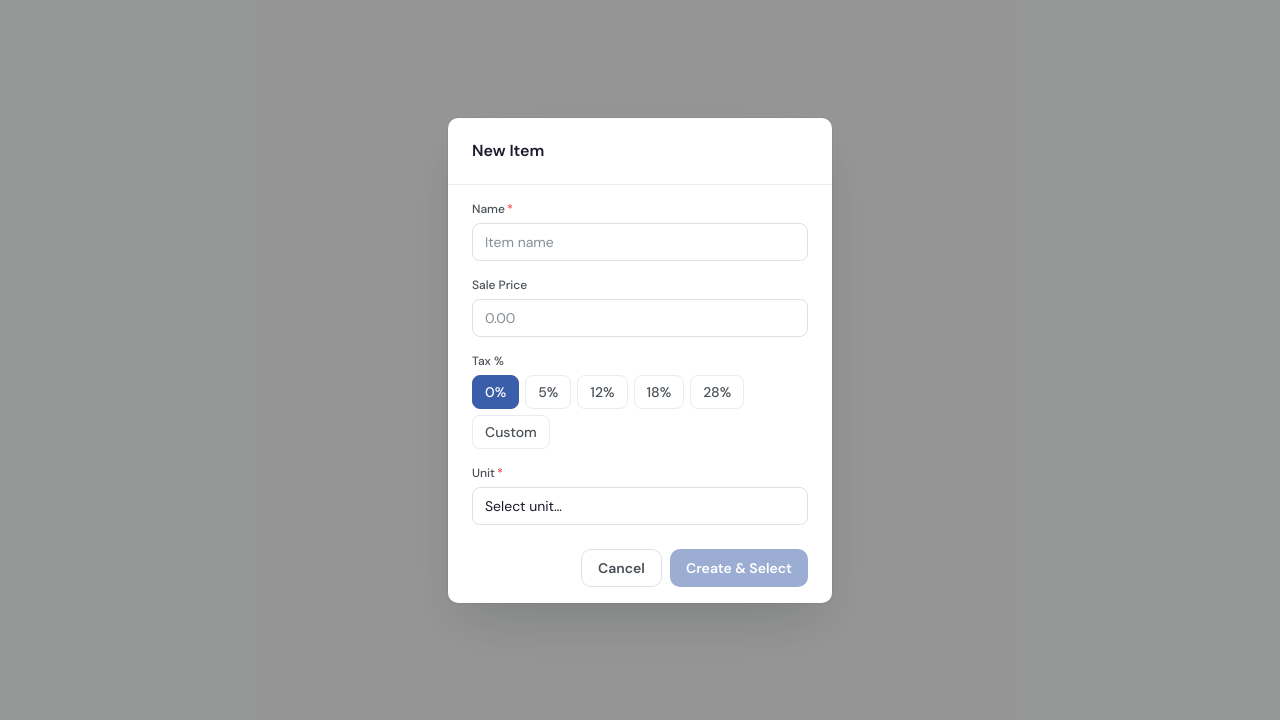
Scenario: QuickItemCreate › "Create & Select" button is enabled when both name and unit are filled
The image size is (1280, 720).
Type "Test Item" into the field with placeholder "Item name" at (640, 242), box [472,222,808,260]
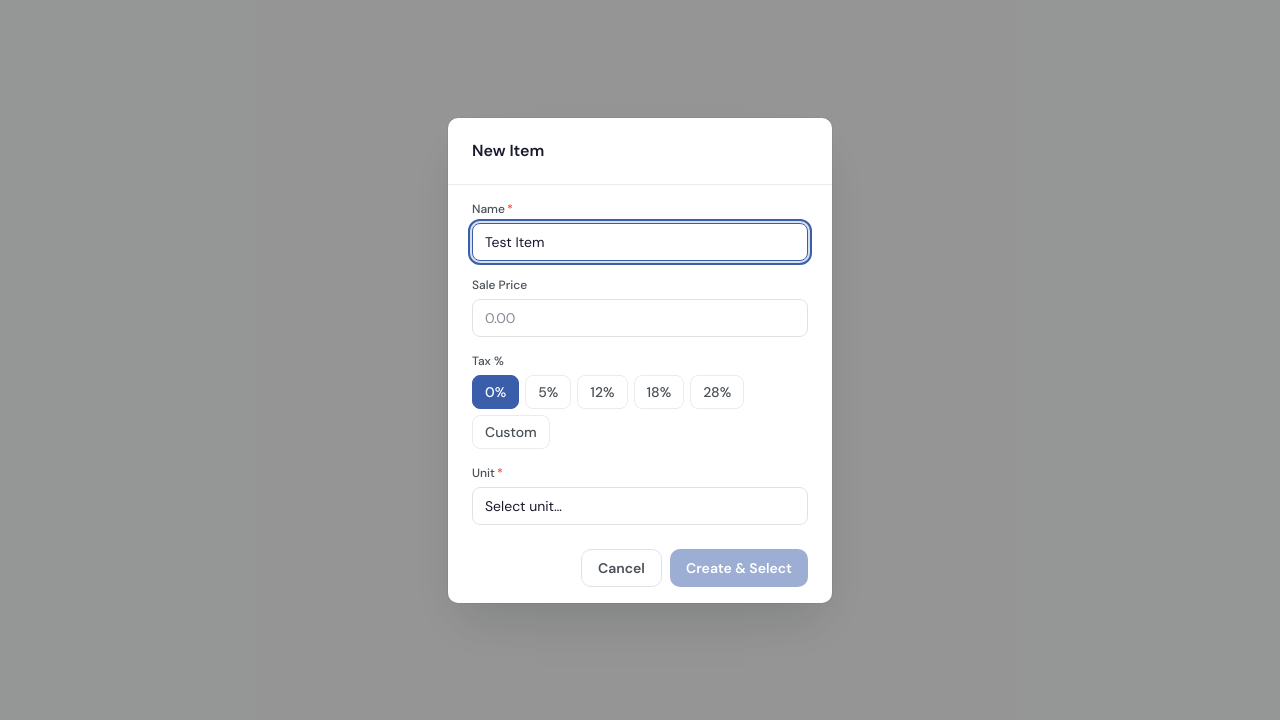
# Pick a unit from the custom dropdown
Click the dropdown labelled "Select unit…" at (524, 506), box [472,486,808,524]
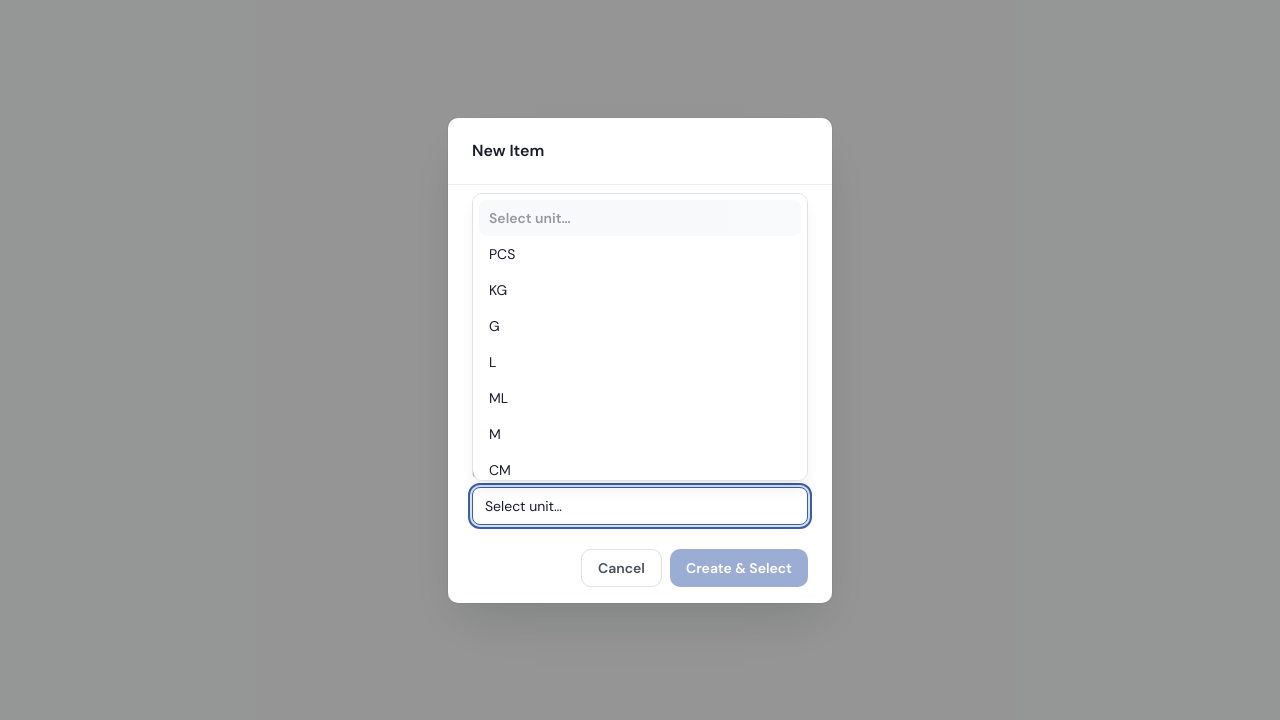
Click the option "PCS" at (502, 254), box [489,244,515,262]
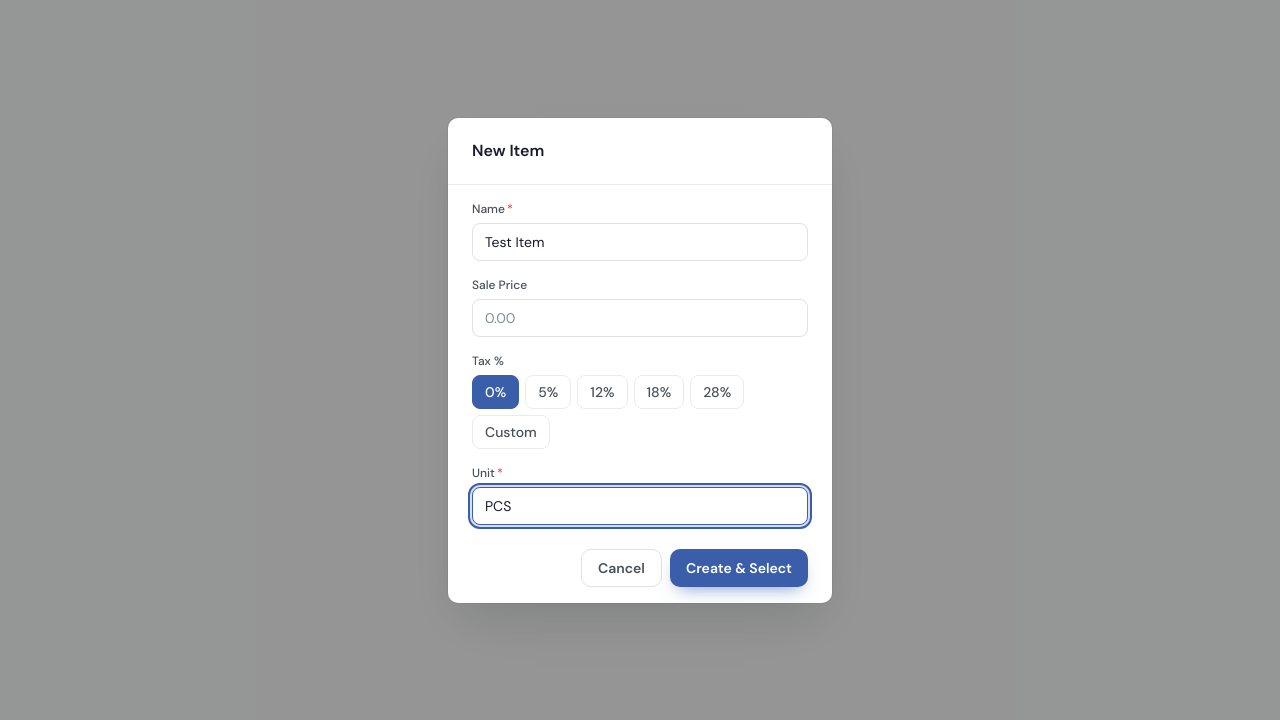
Now the button "Create & Select" is enabled, box [670,548,808,586]
